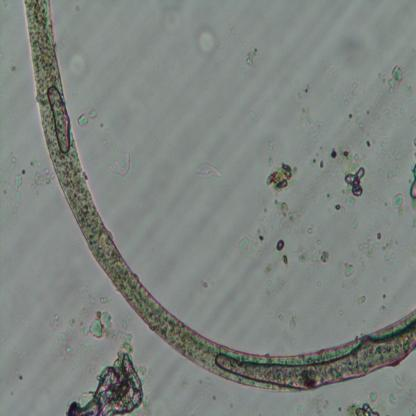Background material: (234, 197, 331, 274), (60, 350, 145, 416), (311, 142, 373, 229), (340, 80, 378, 140), (292, 81, 324, 140), (266, 157, 300, 195), (44, 312, 78, 350), (0, 155, 23, 211), (357, 230, 402, 256), (26, 151, 52, 196), (83, 307, 115, 343), (386, 64, 414, 97), (108, 144, 132, 180), (195, 28, 222, 57), (195, 156, 224, 181), (279, 312, 304, 337), (68, 52, 89, 79), (76, 104, 98, 127), (348, 399, 380, 414), (244, 46, 260, 69), (410, 152, 416, 213), (392, 191, 405, 215), (244, 107, 262, 124), (343, 260, 357, 280), (11, 366, 29, 380), (196, 276, 212, 289), (355, 292, 367, 308), (388, 390, 399, 406), (368, 388, 379, 403)
Microfibre: (23, 0, 416, 388)
